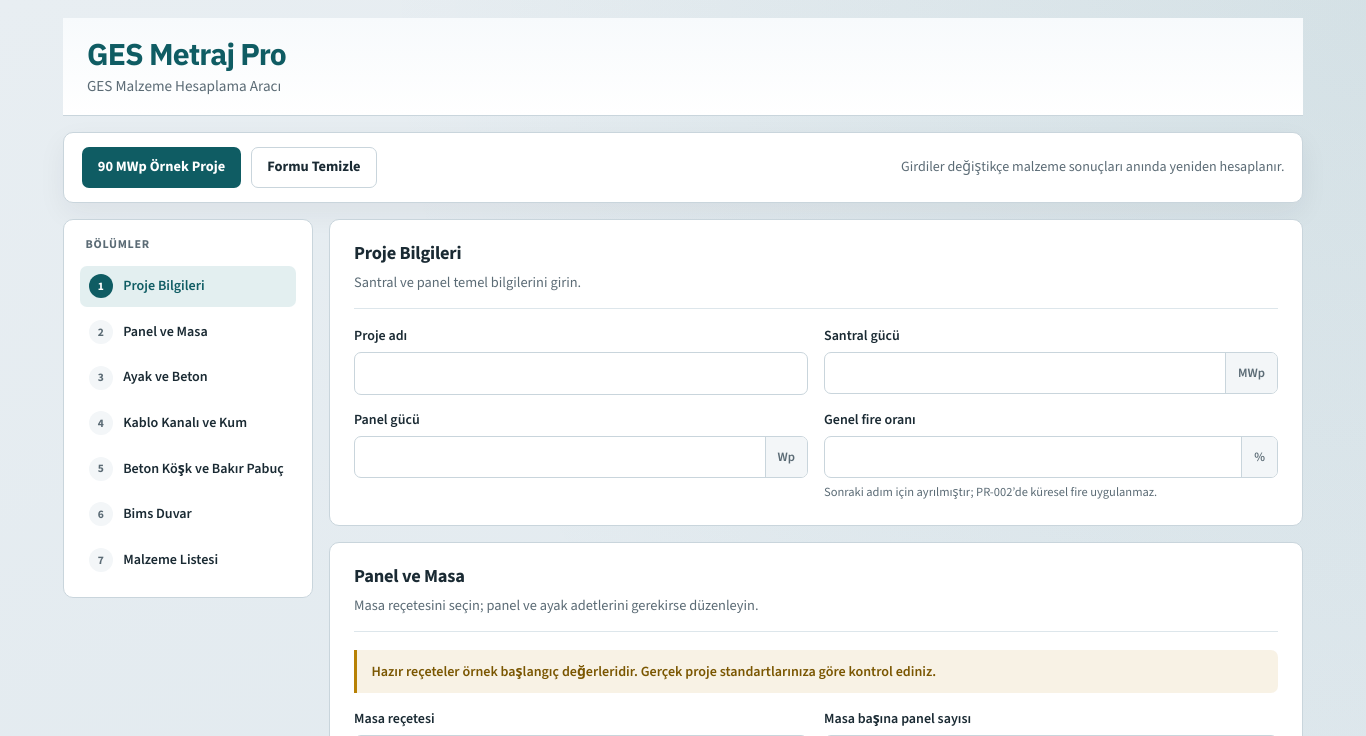
Test: GES Metraj Pro — PR-001 foundation › clears the form when Formu Temizle is clicked
This screenshot has width=1366, height=736.
Click the button "90 MWp Örnek Proje" at (162, 168), box [82,147,242,188]
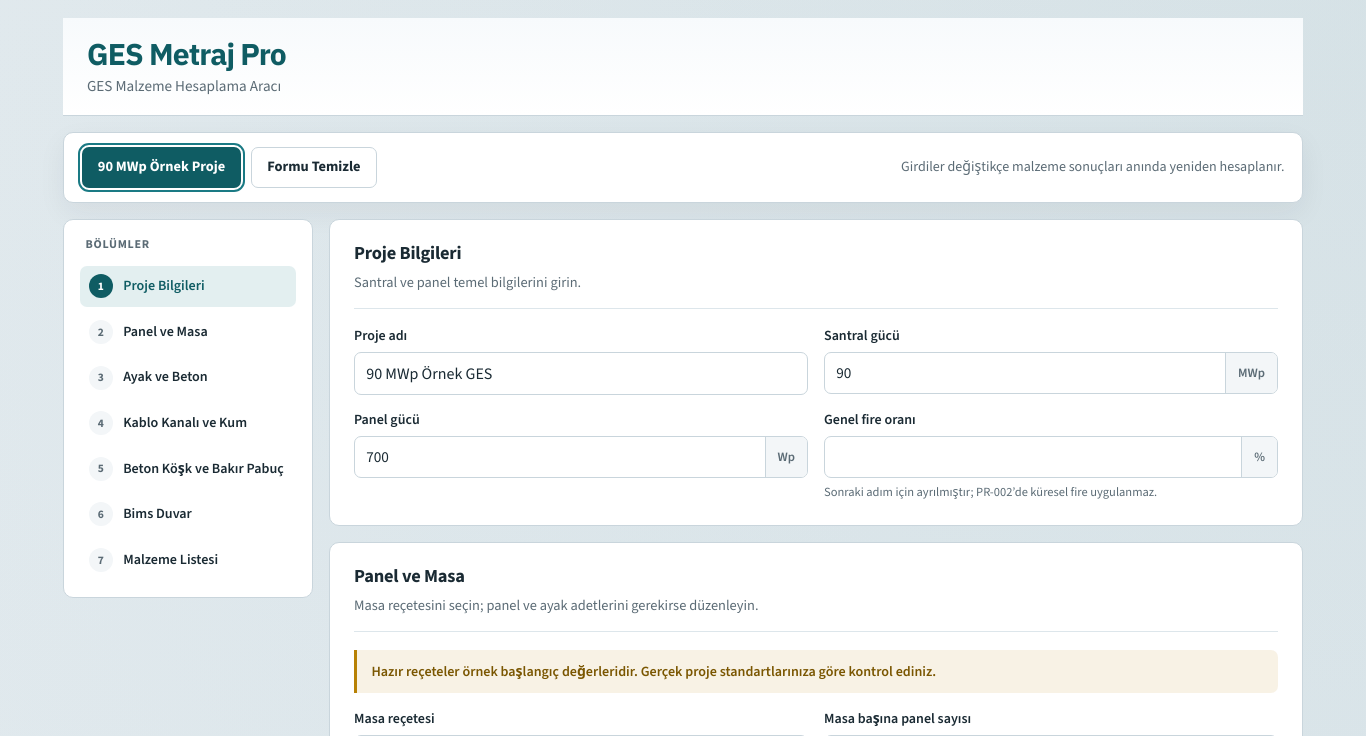
Check: the field labelled "Proje adı" holds "90 MWp Örnek GES", box [354,352,808,395]
Click the button "Formu Temizle" at (314, 168), box [251,147,377,188]
(page scrolled)
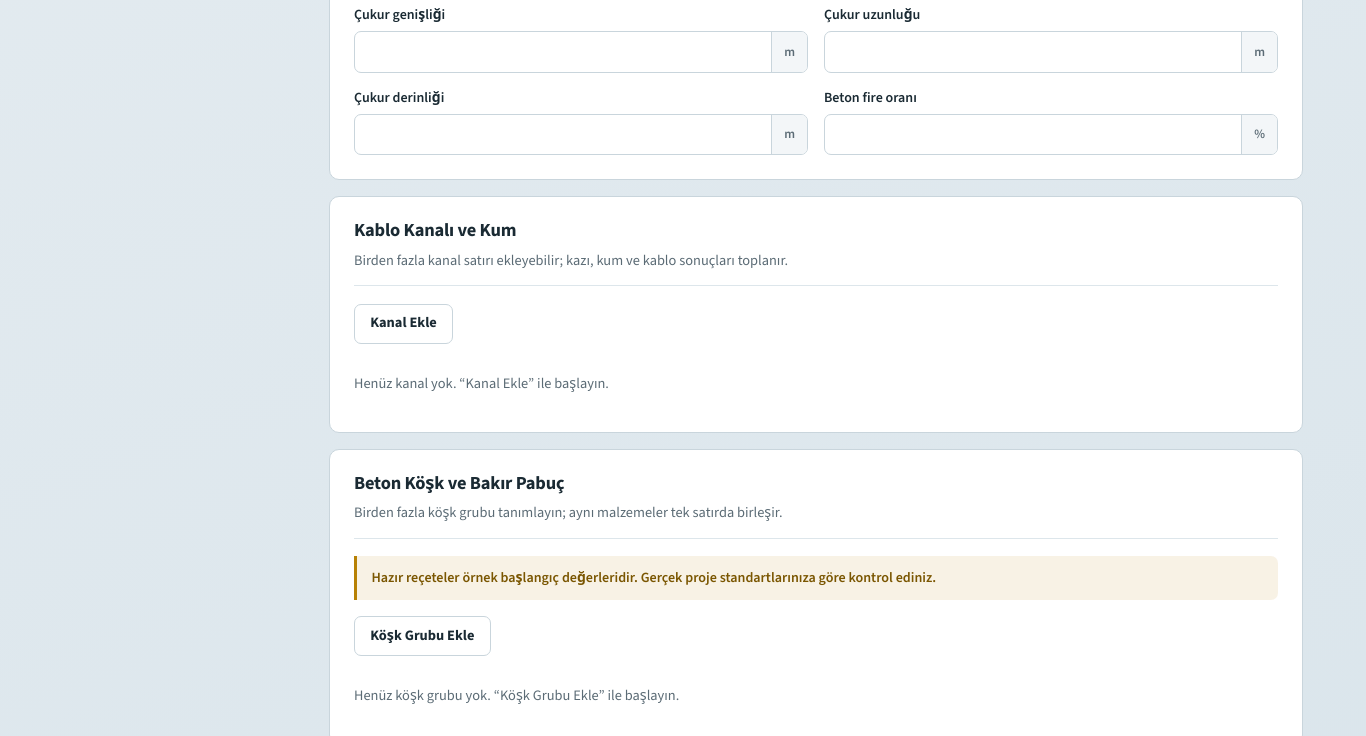
Check: the text "Henüz kanal yok. “Kanal Ekle” ile başlayın." is shown, box [354,374,609,393]
